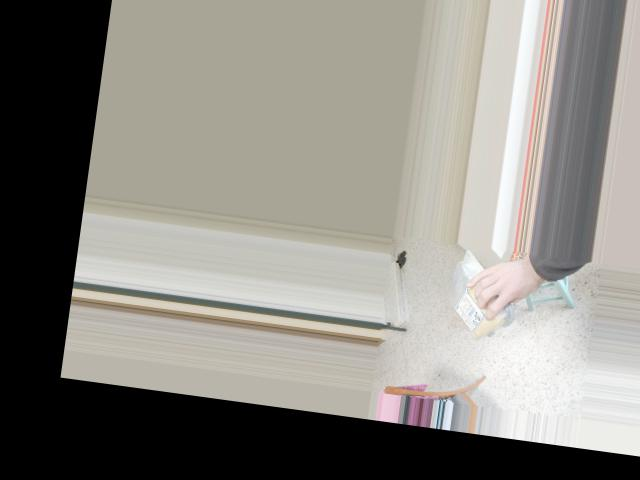cheese: (449, 247, 507, 339)
